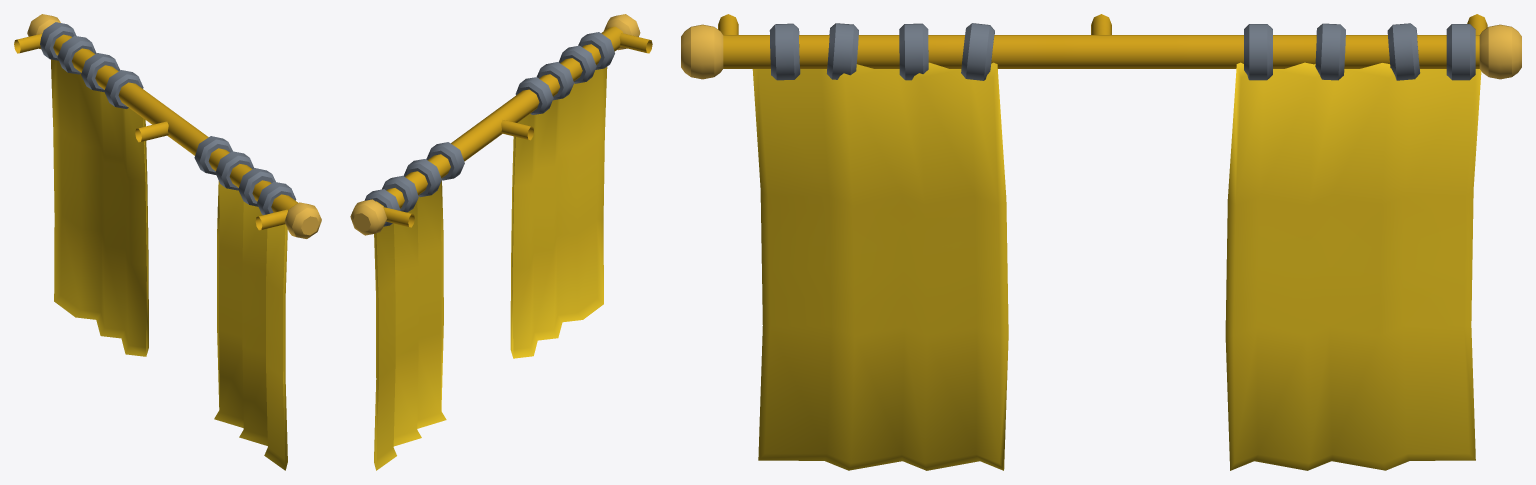
The model's file is Curtains_Long_2_A_I.glb.
3 renders of one model, left to right at view 1: azimuth 30°, elevation 25°; view 2: azimuth 150°, elevation 25°; view 3: azimuth 270°, elevation 25°, orthographic. The views are drawn at different scales.
Visible parts, largest first — view 1: Curtains_Long_2_A_I; view 2: Curtains_Long_2_A_I; view 3: Curtains_Long_2_A_I.
Part boxes in pixels (<box>): Curtains_Long_2_A_I: <box>14,14,321,470</box>; Curtains_Long_2_A_I: <box>350,14,652,470</box>; Curtains_Long_2_A_I: <box>681,14,1521,470</box>.
Bounding box in the file's own units: 0.2288 × 1.16 × 2.02.
Materials: 2 (2 with a texture image).
